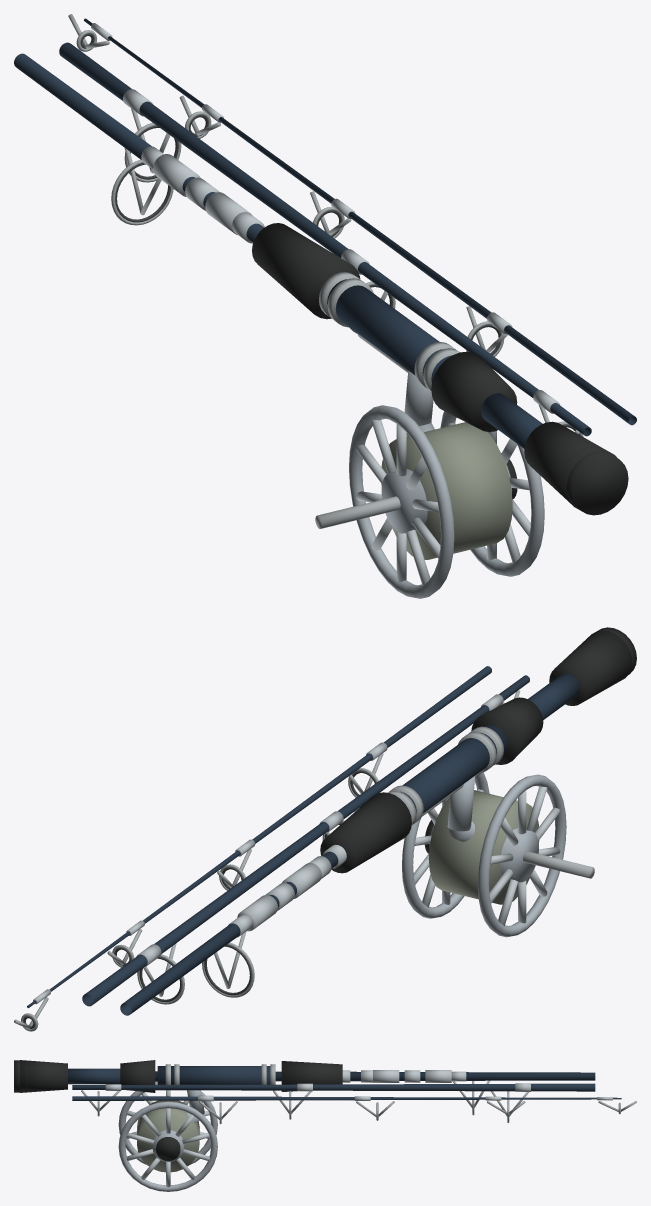
Rendered from reed_fly_folded.glb.
The picture shows the model from 3 angles, top to bottom: view 1: azimuth 30°, elevation 25°; view 2: azimuth 150°, elevation 25°; view 3: azimuth 270°, elevation 25°; orthographic projection. The views are drawn at different scales.
Parts seen in each view (by area): view 1: Folded rod; view 2: Folded rod; view 3: Folded rod.
Part boxes in pixels (x1,y1,x2,y2): Folded rod: (14,14,636,598); Folded rod: (14,627,636,1031); Folded rod: (14,1060,636,1191).
Bounding box in the file's own units: 0.1577 × 0.151 × 0.7147.
